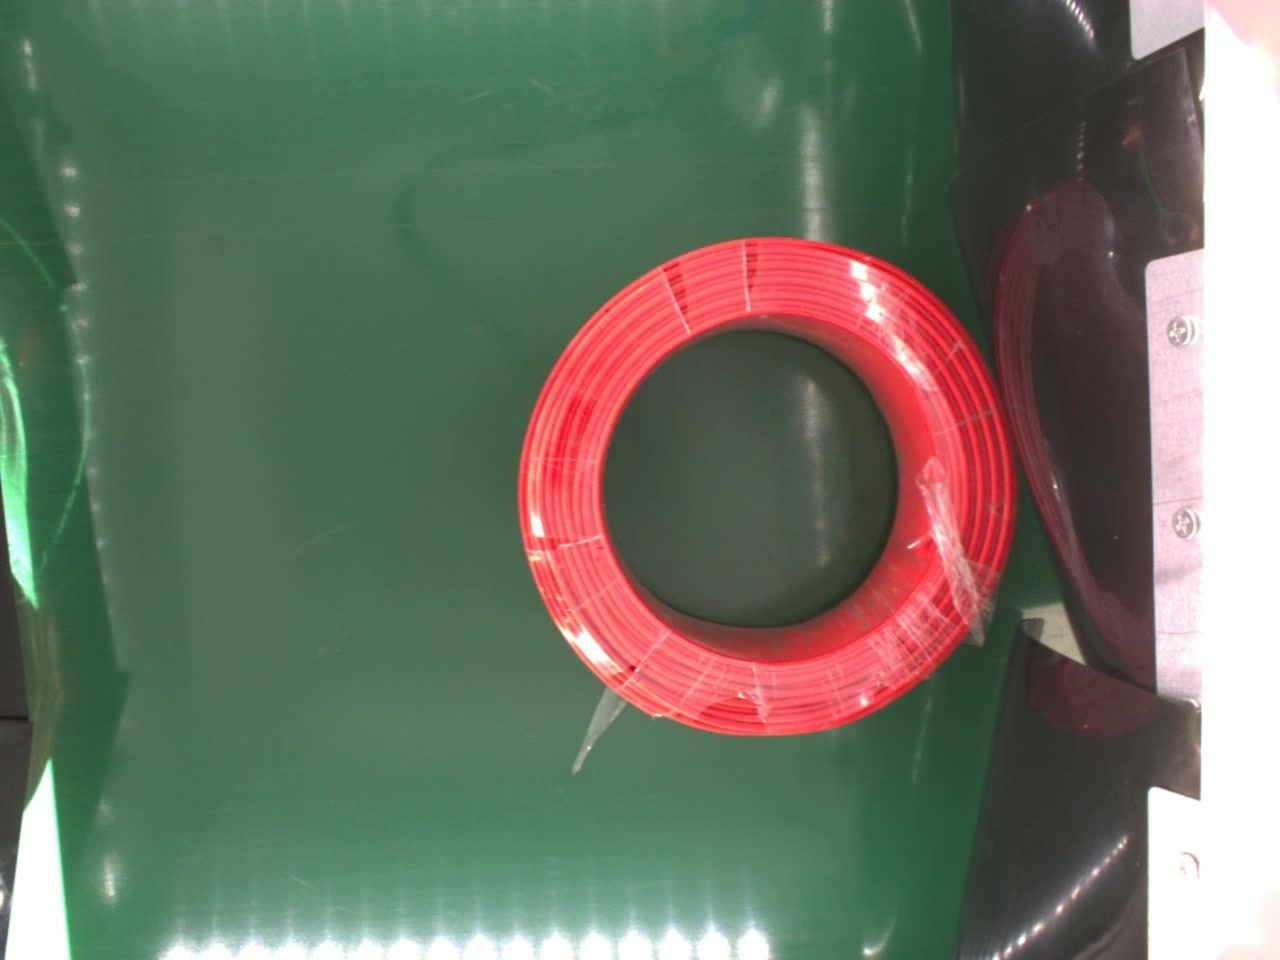red: (514, 236, 1023, 737)
